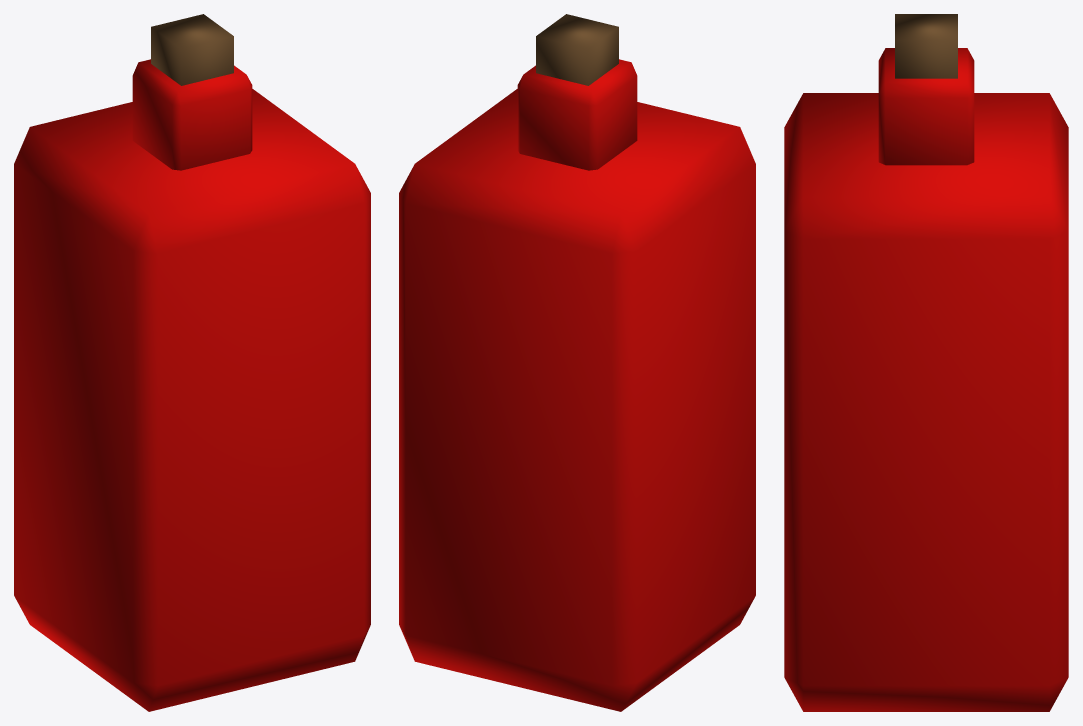
Rendered from RED RECTANGLE POTION.glb.
3 views of the same model, side by side, from view 1: azimuth 30°, elevation 25°; view 2: azimuth 150°, elevation 25°; view 3: azimuth 270°, elevation 25° (orthographic). The views are drawn at different scales.
Parts seen in each view (by area): view 1: Cube; view 2: Cube; view 3: Cube.
Boxes of the visible parts, box(x1,y1,x2,y2) form: Cube: box(14, 14, 370, 711); Cube: box(399, 14, 755, 711); Cube: box(784, 14, 1068, 711).
Size of the model in its own units: 2 by 4.91 by 2.
